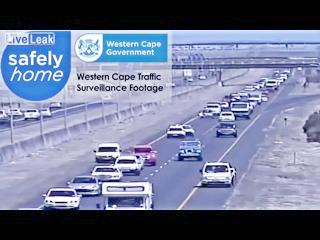Car: (101, 181, 154, 210), (203, 160, 236, 188), (43, 187, 81, 209), (67, 175, 101, 196), (114, 155, 143, 175), (94, 143, 122, 163), (177, 140, 203, 161), (131, 145, 158, 165), (91, 165, 122, 182), (215, 121, 237, 138), (166, 125, 185, 138), (231, 103, 250, 116), (24, 109, 41, 120), (218, 111, 235, 122), (200, 108, 217, 118), (248, 92, 262, 104), (180, 124, 195, 135), (238, 95, 251, 106), (7, 108, 22, 117), (265, 79, 278, 88), (40, 108, 52, 117), (0, 109, 8, 122), (229, 94, 242, 102), (218, 101, 229, 110), (50, 102, 62, 109), (244, 85, 256, 92), (2, 107, 11, 115), (254, 82, 264, 89), (281, 73, 288, 81), (198, 74, 207, 80), (273, 71, 280, 78), (167, 82, 175, 88), (187, 77, 194, 82), (283, 70, 290, 75), (297, 67, 302, 71)
Not Accident: (91, 140, 159, 174), (166, 120, 204, 162), (202, 101, 241, 139), (231, 91, 264, 116)
